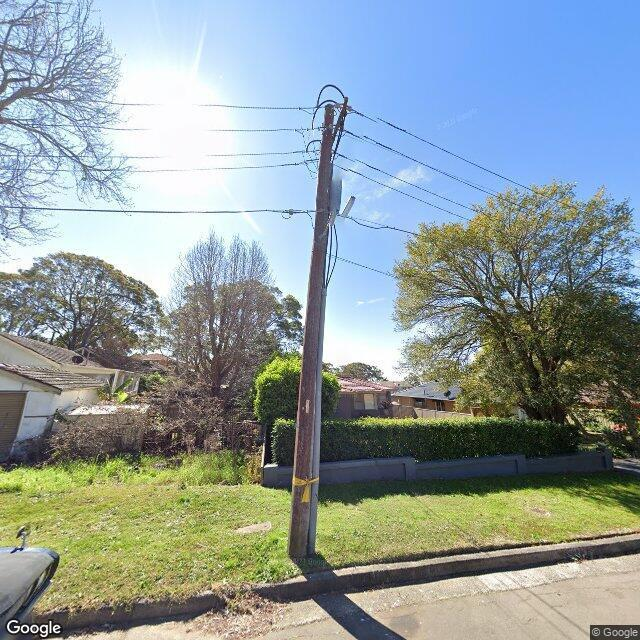crossarm: (330, 96, 350, 150)
timber-pole: (286, 103, 335, 557)
